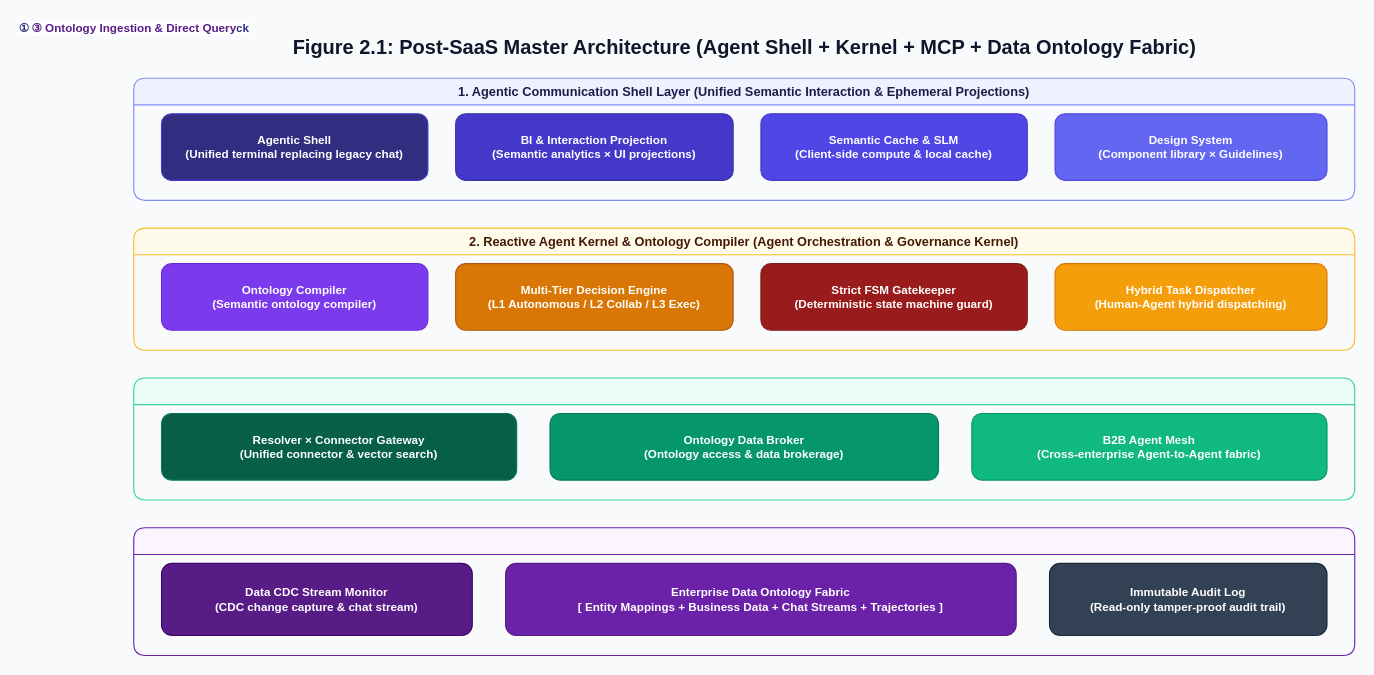
The diagram is 1374 pixels wide and 675 high, and some of its shapes have lost their labels. Here are the shapes that lost their labels. From the top down, the box of each, then its label:
(133, 377, 1355, 500): 3. Dual-Mode MCP Protocol Mesh Layer (Duplex MCP Mesh & Tool Transport Gateway)
(133, 527, 1355, 655): 4. Unified Enterprise Data Ontology Fabric (Physical Enterprise Data Mesh)
